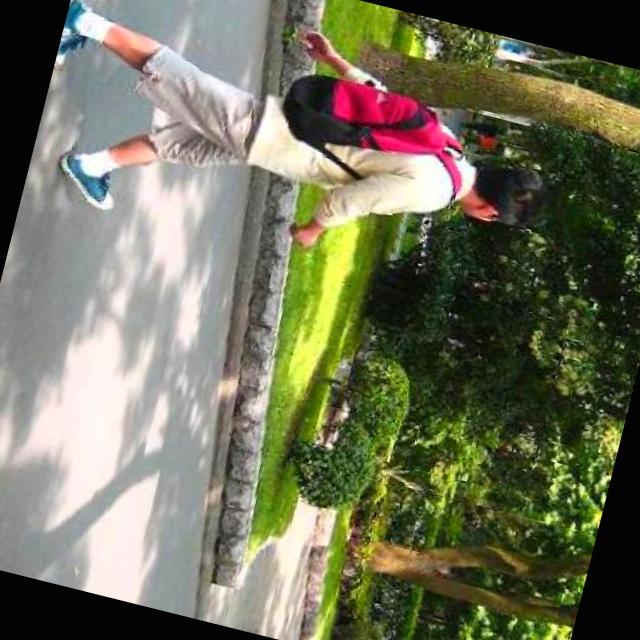Person: (23, 0, 573, 313)
